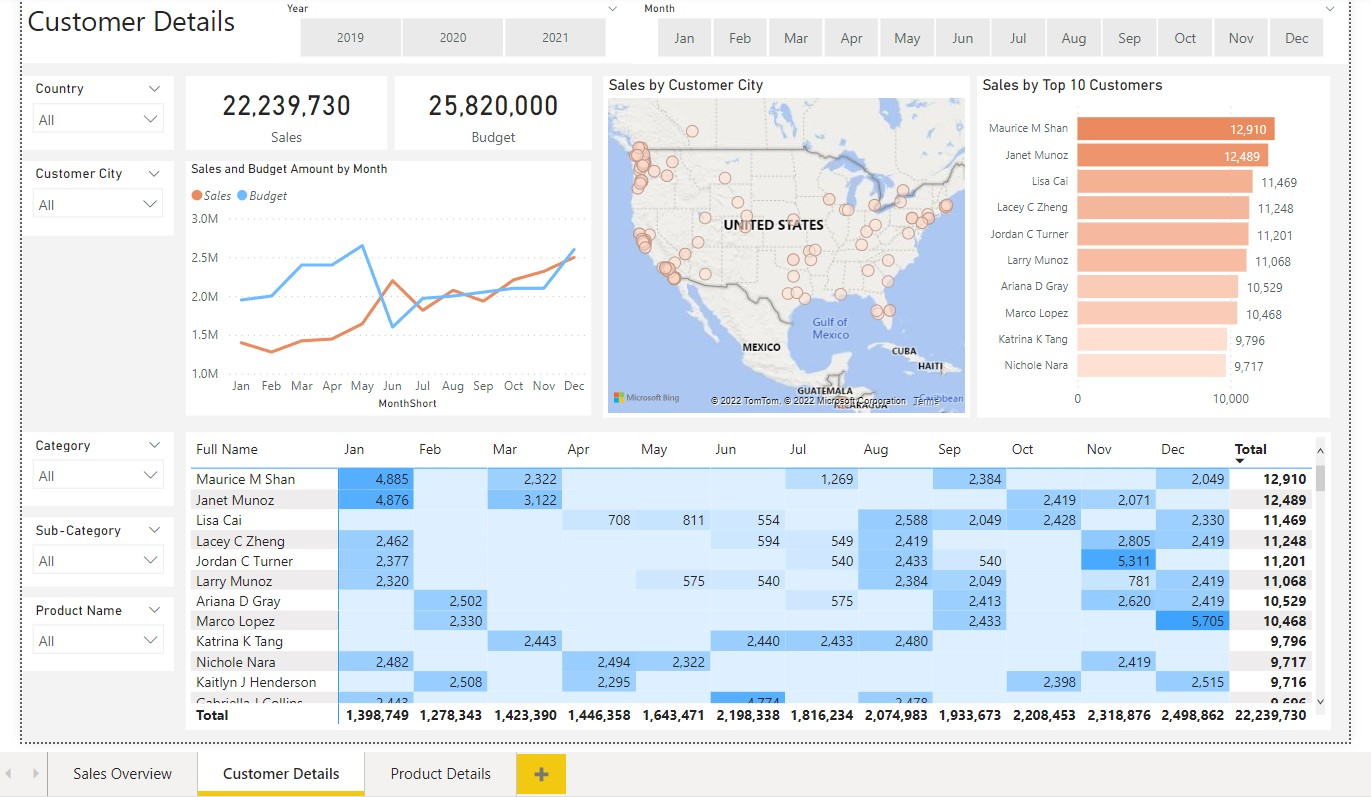

The dashboard page shown, as its layout file describes it:
{"tool":"powerbi","page":{"name":"Customer Details","canvas":[1280,720],"ordinal":1},"visuals":[{"type":"textbox","box":[0,0,1278.6,64.5],"z":0},{"type":"slicer","fields":{"Values":["DIM_Customer.CustomerCity"]},"box":[0,159.5,146.1,72.4],"z":1000},{"type":"slicer","fields":{"Values":["DIM_Products.Subcategory"]},"box":[0,502.6,146.5,67.2],"z":2000},{"type":"slicer","fields":{"Values":["DIM_Products.ProductCategory"]},"box":[0,421.2,146.5,71.2],"z":3000},{"type":"slicer","fields":{"Values":["DIM_Products.ProductName"]},"box":[0,580,146.5,71.2],"z":4000},{"type":"slicer","fields":{"Values":["DIM_Calendar.Year"]},"box":[242.4,0,344.9,65.1],"z":5000},{"type":"slicer","fields":{"Values":["DIM_Calendar.MonthShort"]},"box":[587.8,0,692.2,65.5],"z":6000},{"type":"barChart","title":"Sales by Top 10 Customers","fields":{"Y":["FACT_InternetSales2.Sales"],"Category":["DIM_Customer.FullName"]},"box":[921.8,77.3,340.9,329.7],"z":7000},{"type":"pivotTable","fields":{"Columns":["DIM_Calendar.MonthShort"],"Values":["FACT_InternetSales2.Sales"],"Rows":["DIM_Customer.FullName"]},"box":[158.2,420.9,1104.4,286.8],"z":8000},{"type":"slicer","fields":{"Values":["DIM_Customer.Country"]},"box":[0,77.3,146.5,71.2],"z":9000},{"type":"map","title":"Sales by Customer City","fields":{"Category":["DIM_Customer.CustomerCity"]},"box":[560.3,77.7,353.8,329.7],"z":10000},{"type":"lineChart","title":"Sales and Budget Amount by Month","fields":{"Y":["FACT_InternetSales2.Sales","FACT_Budget.Budget Amount"],"Category":["DIM_Calendar.MonthShort"]},"box":[158.2,159.5,391.4,245.3],"z":11000},{"type":"card","fields":{"Values":["FACT_InternetSales2.Sales"]},"box":[158.2,77.7,194.3,71],"z":12000},{"type":"card","fields":{"Values":["FACT_Budget.Budget Amount"]},"box":[359.2,77.7,190.3,71],"z":13000}]}

Visuals, with their boxes on the page's 1280x720 design canvas (x1, y1, x2, y2). These are canvas units, not pixel positions in the 1371x797 screenshot, which may show the page scaled, cropped or inside an application window:
textbox: (0,0,1279,64)
slicer - DIM_Customer.CustomerCity: (0,160,146,232)
slicer - DIM_Products.Subcategory: (0,503,146,570)
slicer - DIM_Products.ProductCategory: (0,421,146,492)
slicer - DIM_Products.ProductName: (0,580,146,651)
slicer - DIM_Calendar.Year: (242,0,587,65)
slicer - DIM_Calendar.MonthShort: (588,0,1280,66)
"Sales by Top 10 Customers" barChart: (922,77,1263,407)
pivotTable - DIM_Calendar.MonthShort x FACT_InternetSales2.Sales: (158,421,1263,708)
slicer - DIM_Customer.Country: (0,77,146,148)
"Sales by Customer City" map: (560,78,914,407)
"Sales and Budget Amount by Month" lineChart: (158,160,550,405)
card - FACT_InternetSales2.Sales: (158,78,352,149)
card - FACT_Budget.Budget Amount: (359,78,550,149)
